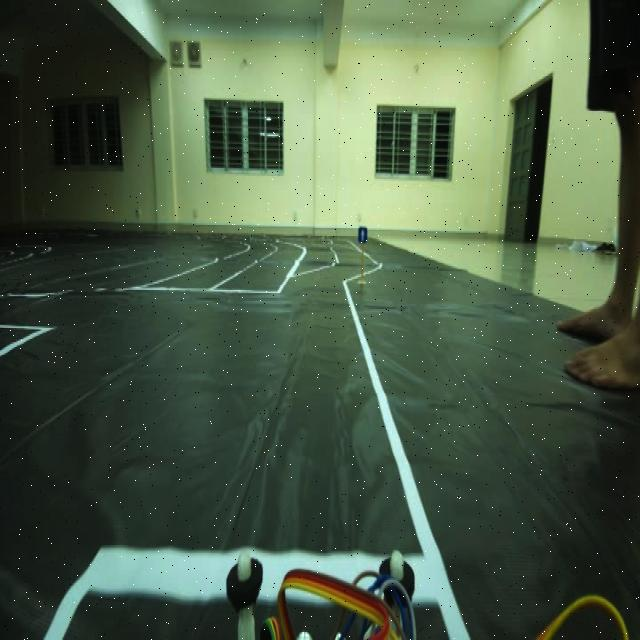onewayroad: (357, 218, 371, 243)
